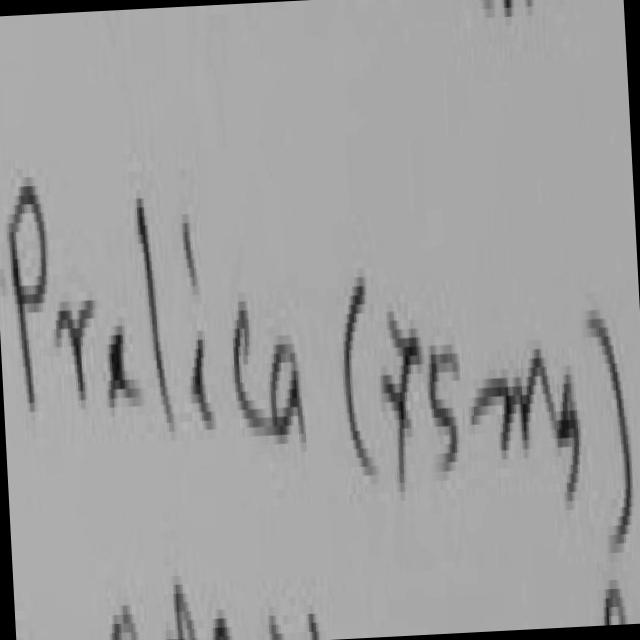5: (431, 346, 459, 471)
7: (383, 313, 415, 502)
P: (9, 185, 48, 407)
a: (267, 335, 306, 438)
c: (234, 302, 273, 431)
e: (109, 318, 140, 400)
g: (555, 376, 582, 511)
i: (193, 340, 214, 425), (185, 214, 199, 281)
l: (138, 199, 174, 427)
m: (474, 349, 559, 450)
r: (56, 300, 91, 416)
